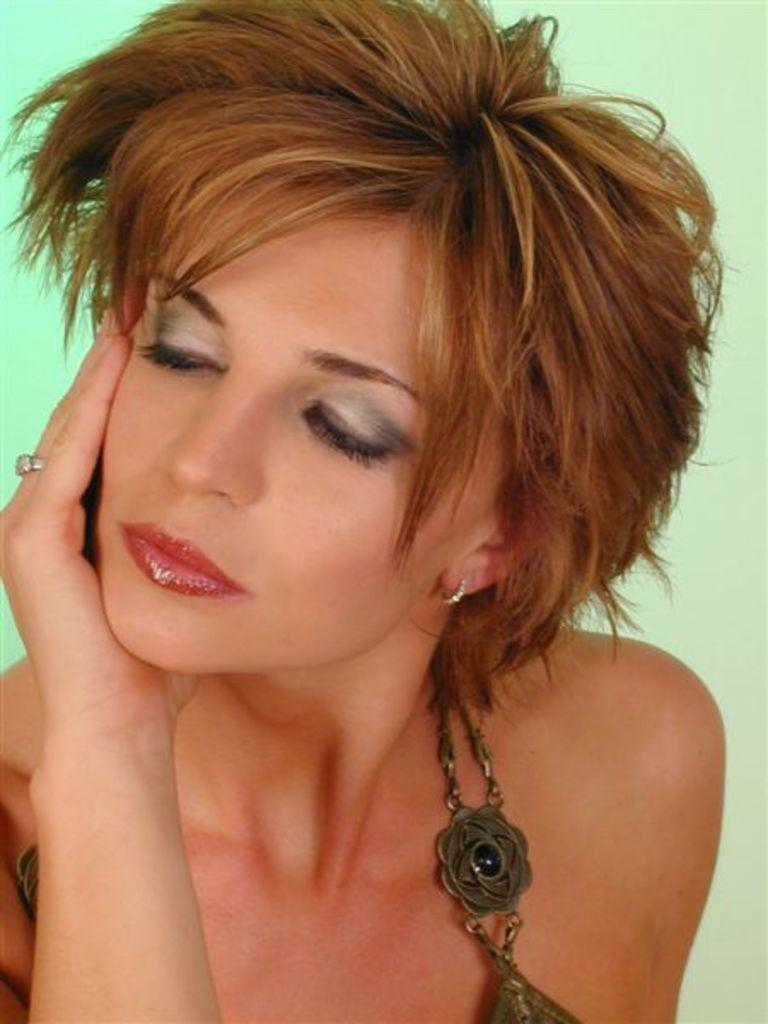earrings: (440, 568, 466, 612)
